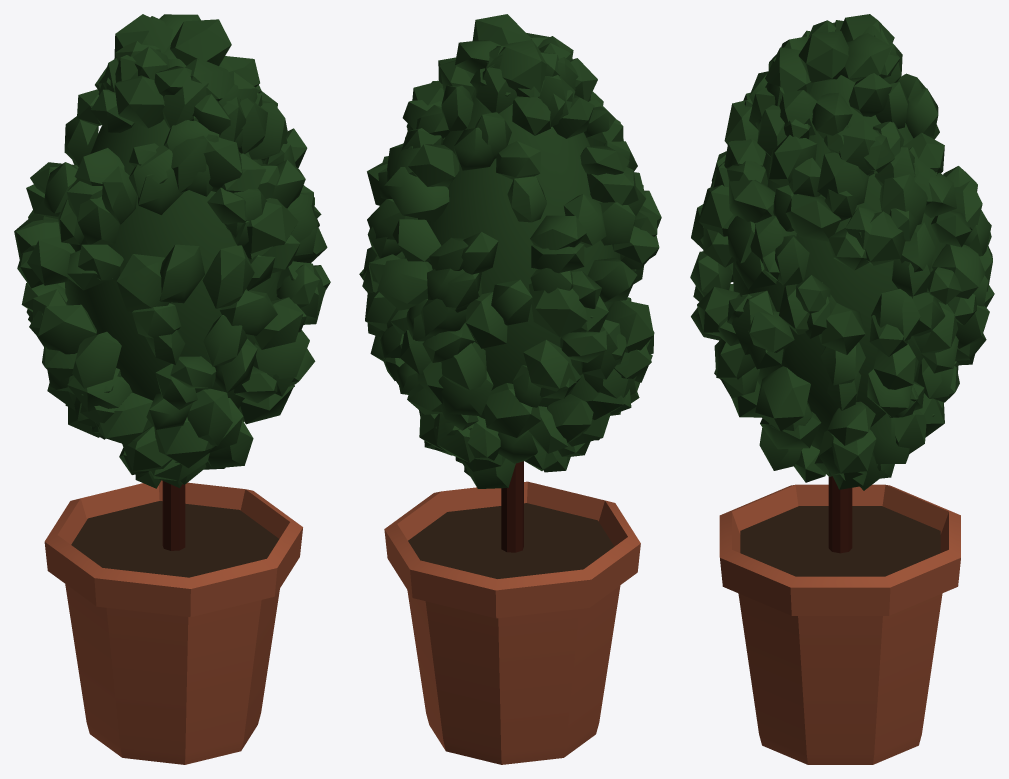
File: Plant.glb
3 renders of one model, left to right at view 1: azimuth 30°, elevation 25°; view 2: azimuth 150°, elevation 25°; view 3: azimuth 270°, elevation 25°, orthographic.
Parts seen in each view (by area): view 1: Plant_Leaves, Plant_Pot, Plant_Soil, Plant_Trunk; view 2: Plant_Leaves, Plant_Pot, Plant_Soil, Plant_Trunk; view 3: Plant_Leaves, Plant_Pot, Plant_Soil, Plant_Trunk.
Boxes of the visible parts, box(x1,y1,x2,y2) form: Plant_Leaves: box(14, 14, 330, 488); Plant_Pot: box(44, 480, 302, 764); Plant_Soil: box(71, 501, 279, 577); Plant_Trunk: box(162, 481, 185, 550); Plant_Leaves: box(359, 14, 661, 488); Plant_Pot: box(384, 481, 640, 764); Plant_Soil: box(408, 503, 614, 578); Plant_Trunk: box(501, 461, 523, 552); Plant_Leaves: box(690, 14, 994, 490); Plant_Pot: box(719, 484, 960, 764); Plant_Soil: box(740, 506, 940, 576); Plant_Trunk: box(828, 476, 852, 553).
Bounding box in the file's own units: 0.4912 × 1.2 × 0.4665.
